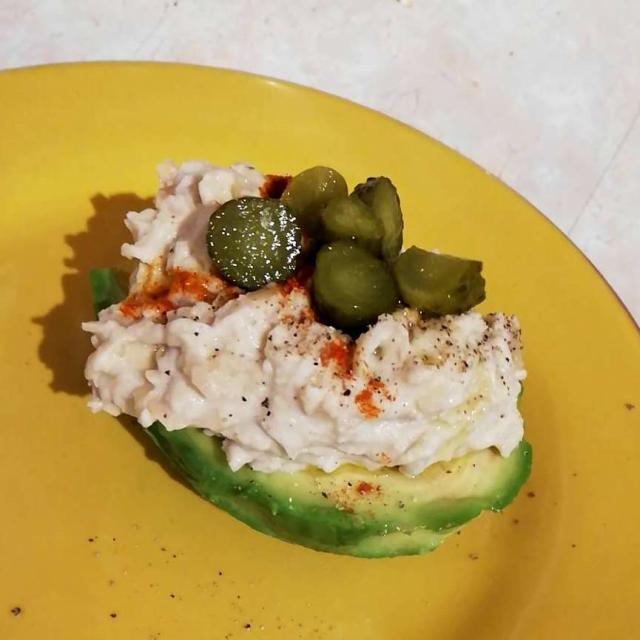avocado: (150, 430, 535, 555)
cucumber-pickled: (211, 164, 493, 324)
hummus: (90, 168, 522, 465)
